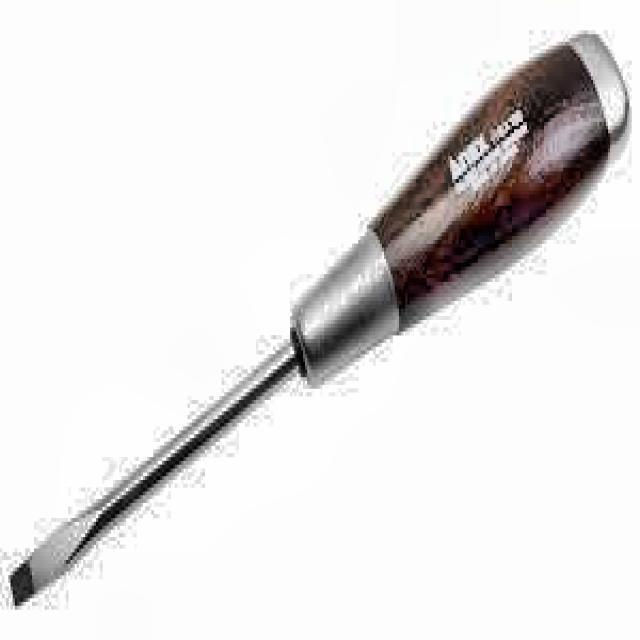screwdriver: (10, 31, 630, 606)
